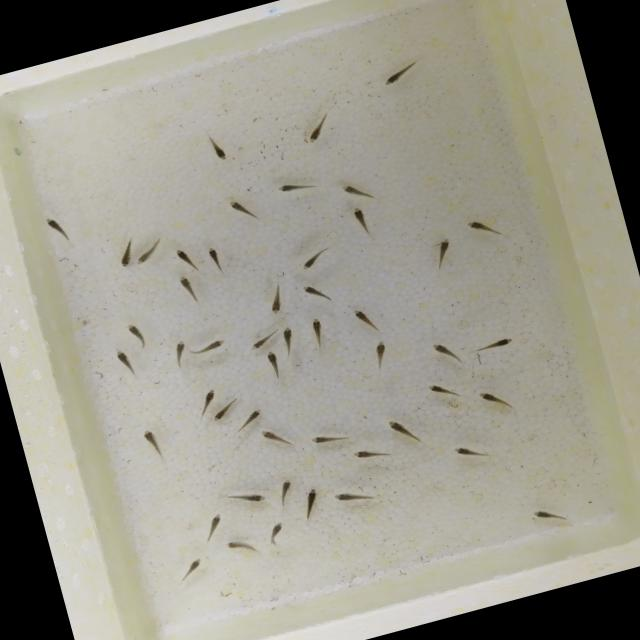fingerling: (470, 379, 518, 412), (525, 500, 577, 530), (266, 173, 311, 204), (220, 483, 268, 511), (328, 482, 372, 512), (378, 410, 414, 446), (293, 242, 333, 274), (336, 174, 374, 207), (380, 59, 420, 90), (342, 302, 382, 332), (168, 272, 203, 306), (220, 192, 256, 225), (306, 426, 354, 450), (448, 438, 492, 464), (188, 334, 230, 361), (108, 346, 139, 382), (302, 113, 332, 148), (206, 136, 237, 169), (258, 424, 292, 454), (258, 343, 286, 379), (241, 330, 281, 355), (362, 337, 393, 369), (344, 201, 374, 234), (426, 337, 461, 365), (260, 513, 293, 542), (110, 241, 140, 272), (137, 424, 166, 456), (430, 234, 459, 266), (465, 214, 498, 242), (346, 442, 384, 466), (297, 276, 331, 302), (306, 312, 331, 346), (236, 406, 270, 430), (132, 242, 160, 271), (192, 384, 218, 415), (204, 403, 236, 428), (263, 285, 287, 318), (222, 534, 256, 557), (175, 556, 209, 579), (423, 376, 455, 400), (300, 482, 324, 514), (120, 318, 146, 347), (40, 212, 68, 238), (276, 322, 298, 354), (481, 333, 518, 352), (171, 242, 196, 269), (203, 511, 227, 536), (168, 337, 190, 364), (277, 476, 297, 504), (205, 244, 222, 270)
